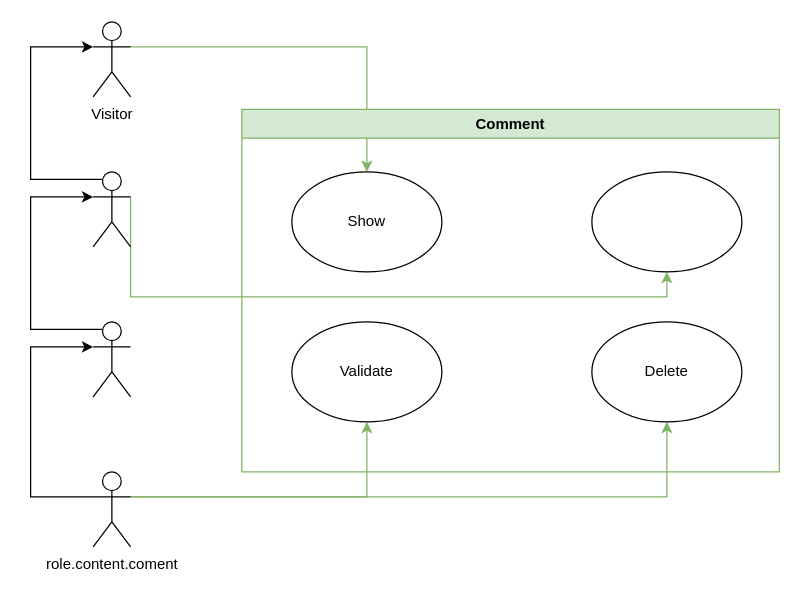
Some shapes in this 801 by 595 pixel diagram are drawn without their labels. The shapes that lost their labels are listed below. From the top down, each one's centre as x and y in pixels, then its label:
At (111,209): "User".
At (666,221): "Create".
At (111,359): "role.system.admin".
